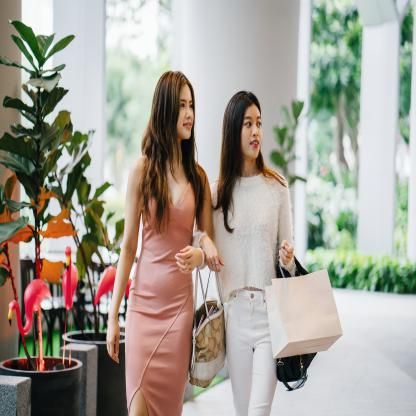Eye: (244, 119, 252, 128), (256, 120, 262, 128), (180, 103, 185, 109), (189, 103, 193, 109)
Mouth: (250, 139, 259, 148), (183, 121, 191, 129)
Nose: (186, 106, 192, 118), (252, 125, 258, 137)
